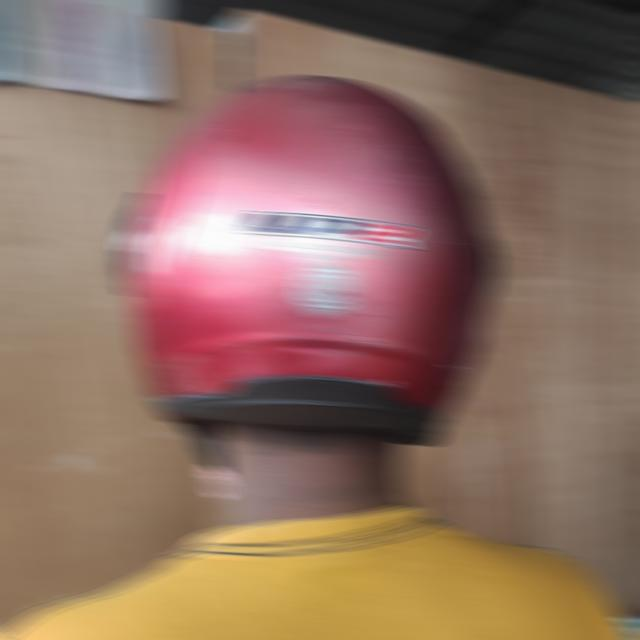With Helmet: (113, 74, 502, 448)
